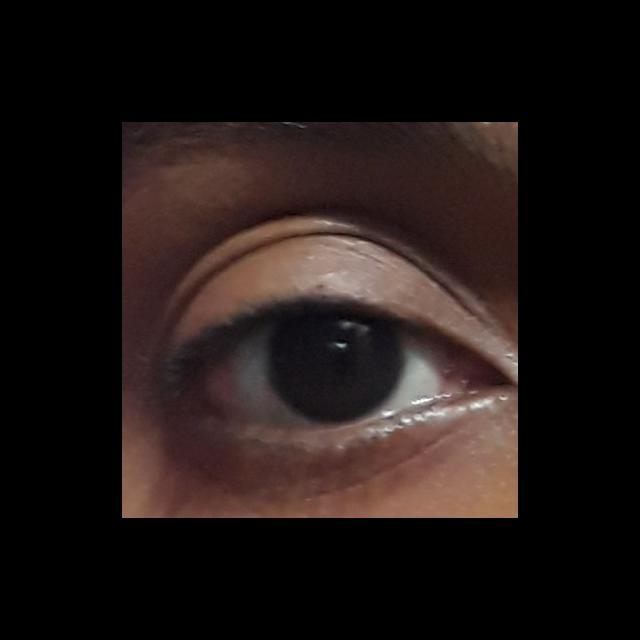eye: (222, 305, 445, 435)
iris: (269, 313, 404, 424)
